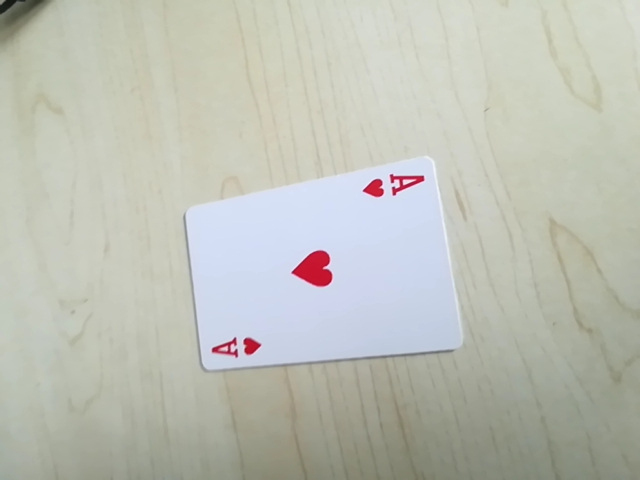hx a: (360, 167, 430, 203), (205, 328, 266, 364)
